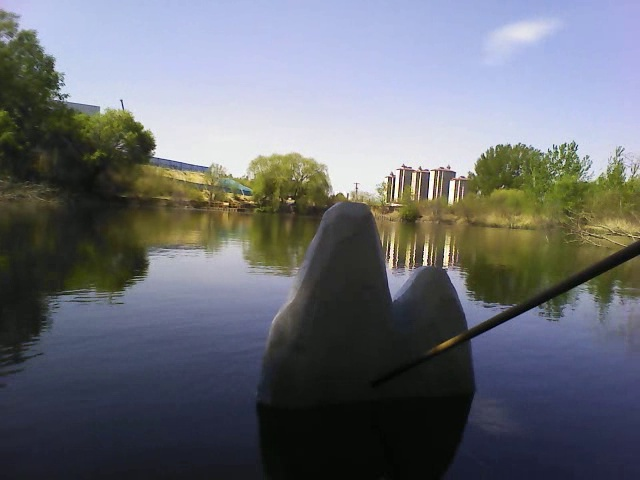iceberg: (254, 197, 480, 410)
